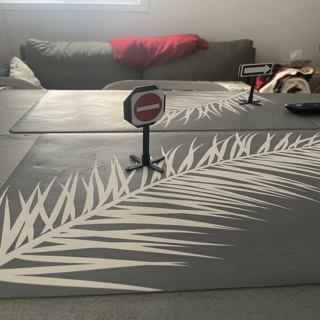sign_noentry: (130, 90, 166, 123)
